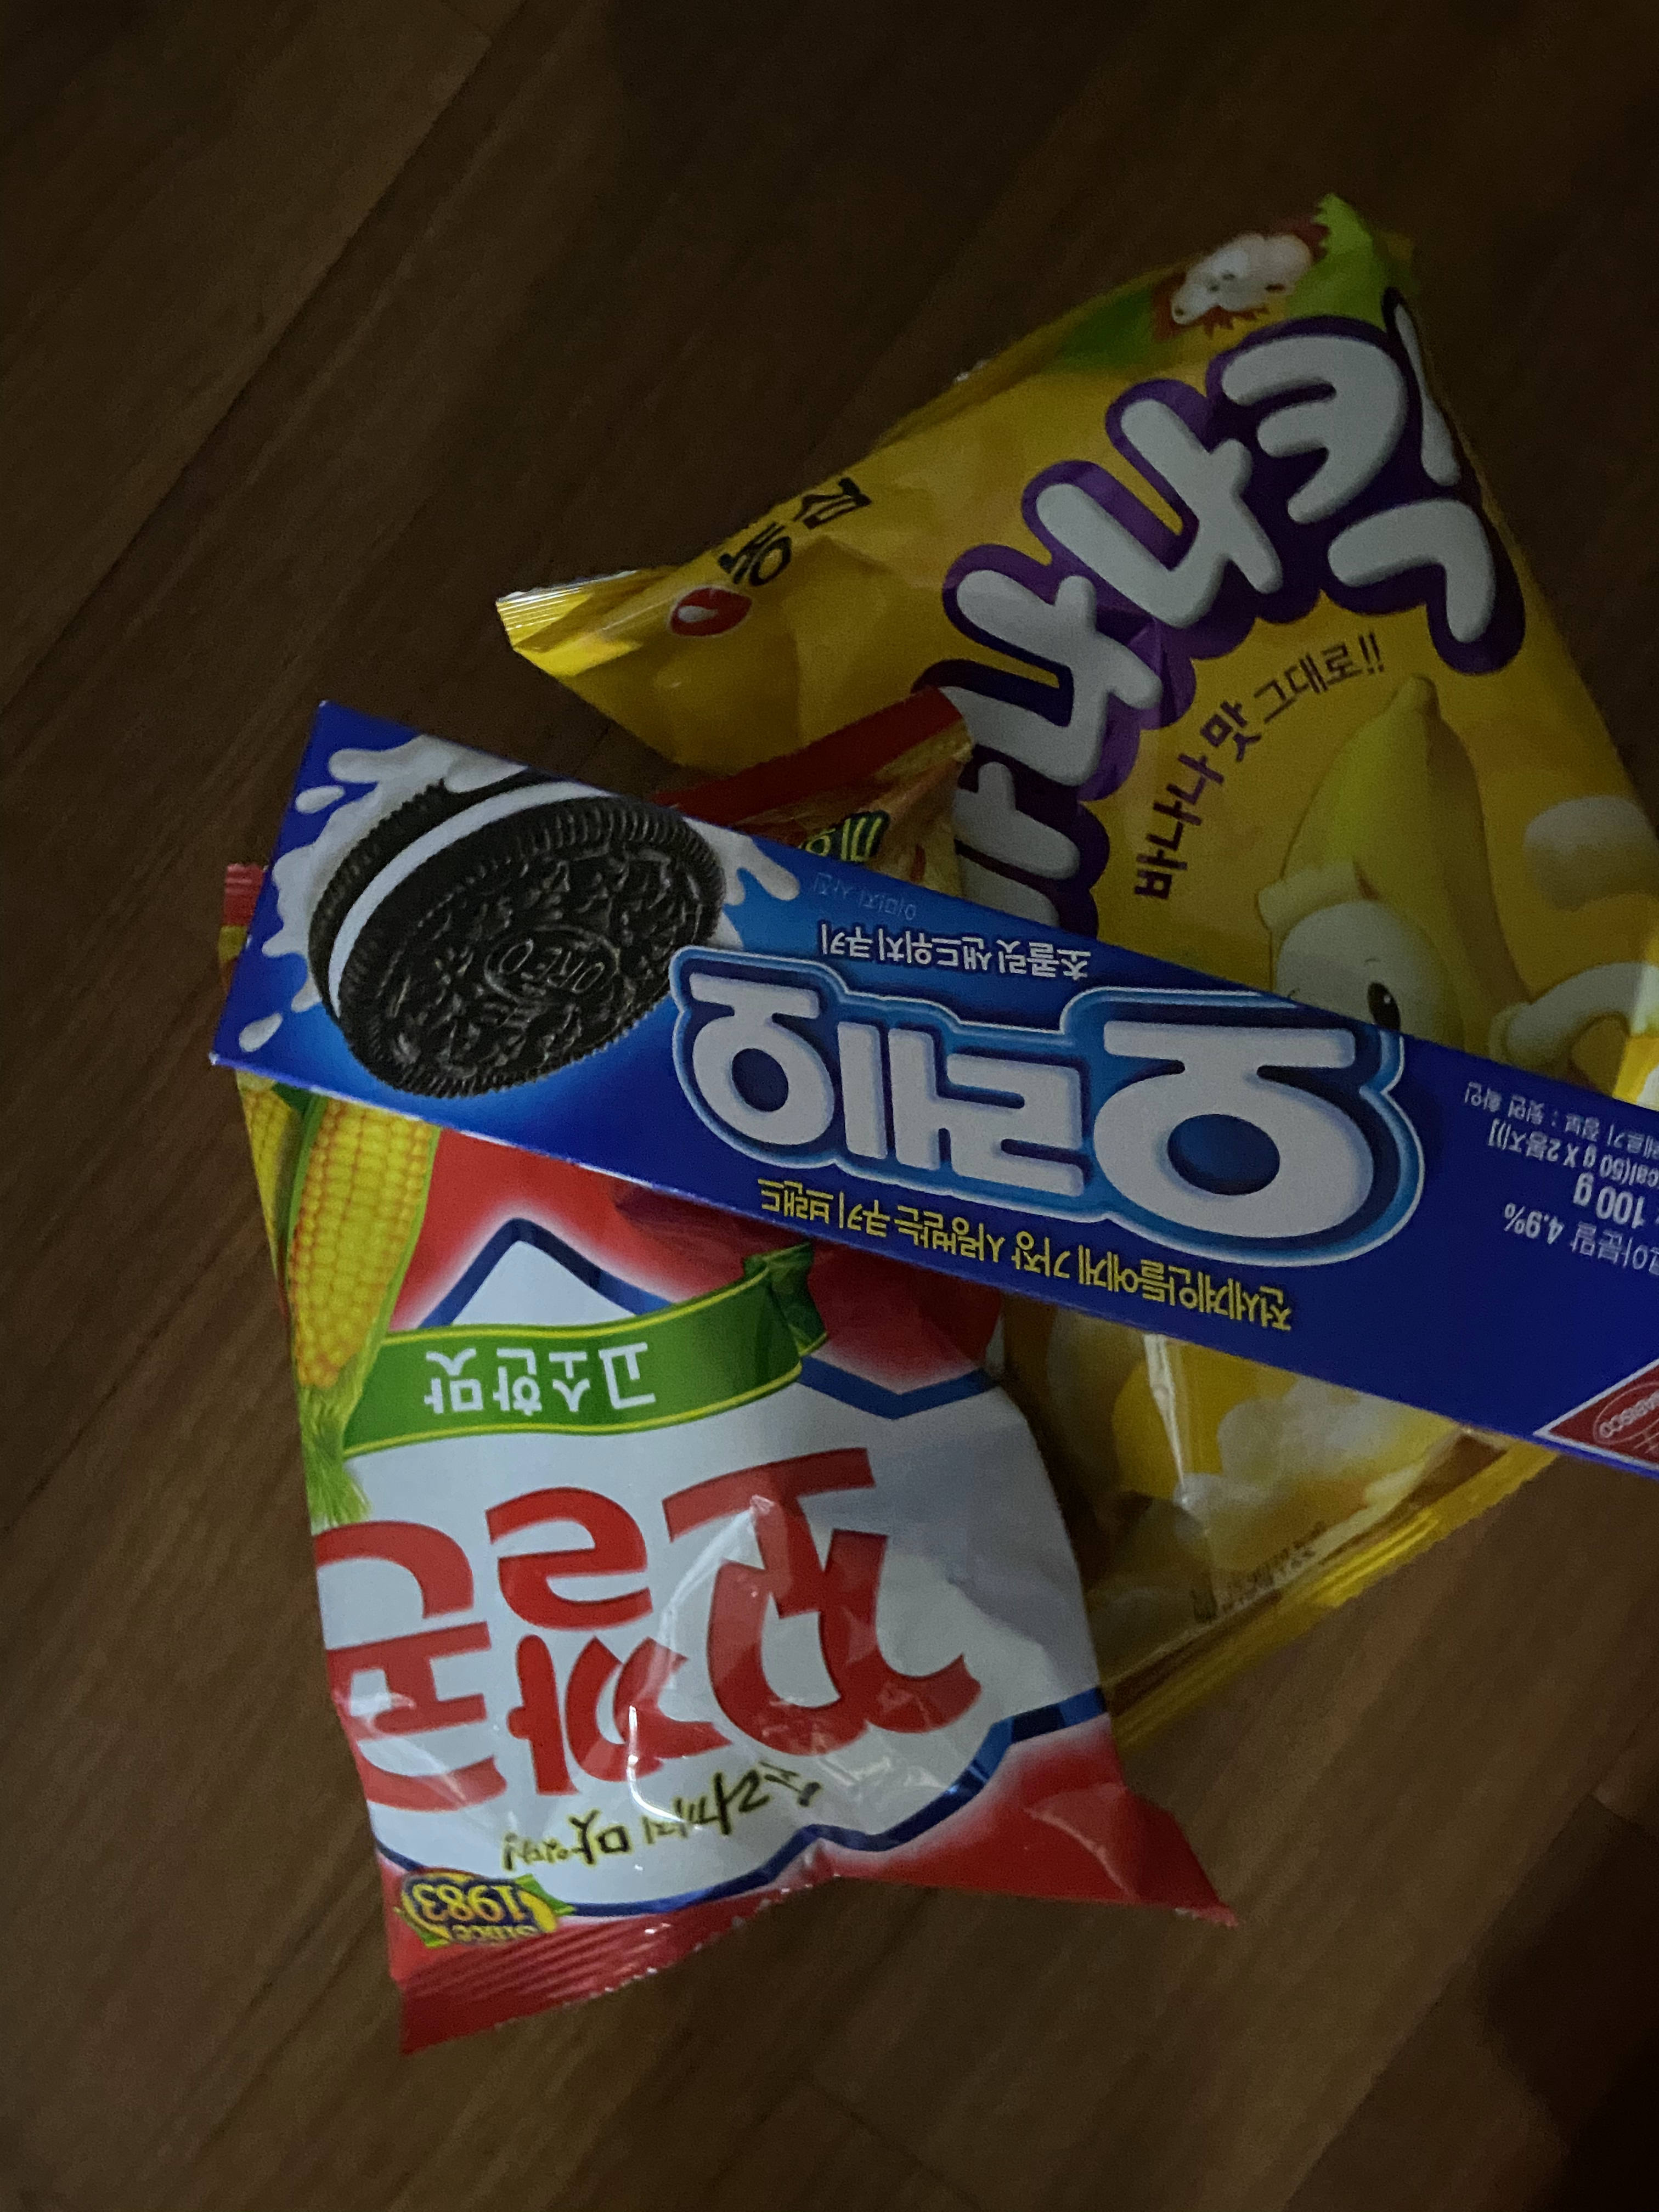banana: (481, 190, 1659, 1761)
ggoggalcon: (192, 664, 1267, 2073)
oreo: (209, 688, 1659, 1524)
